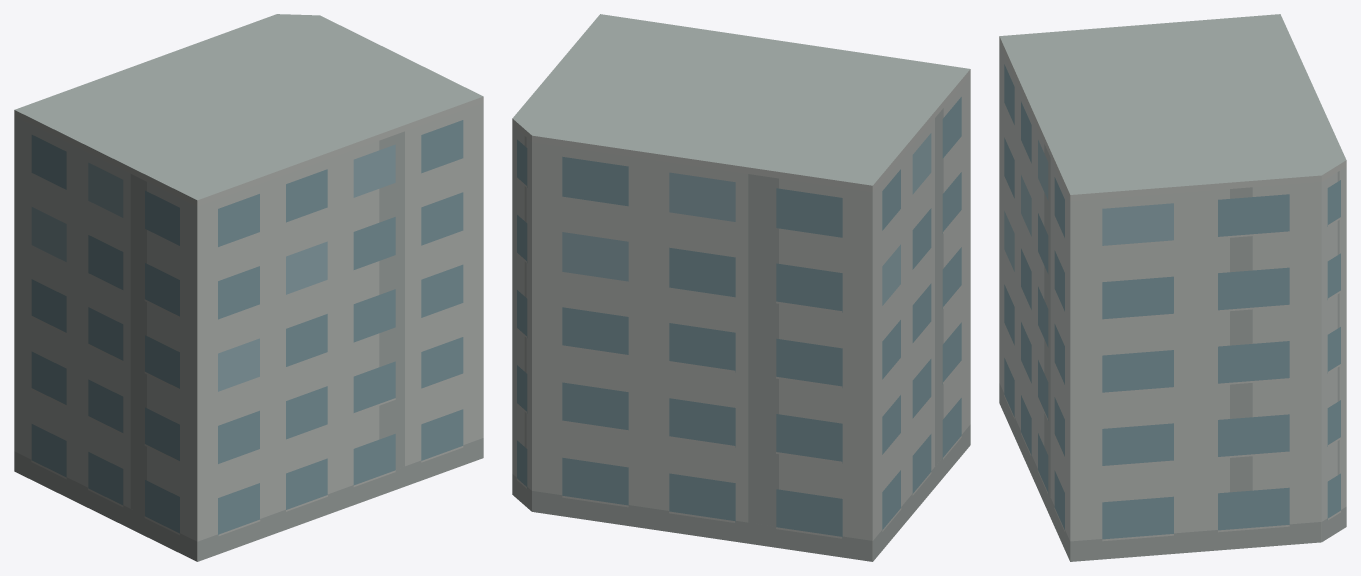
Rendered from survey-upis-32708447.glb.
3 renders of one model, left to right at view 1: azimuth 30°, elevation 25°; view 2: azimuth 150°, elevation 25°; view 3: azimuth 270°, elevation 25°, orthographic. The views are drawn at different scales.
Parts seen in each view (by area): view 1: survey-upis-32708447.tmp; view 2: survey-upis-32708447.tmp; view 3: survey-upis-32708447.tmp.
Boxes of the visible parts, left/top/right/bottom form: survey-upis-32708447.tmp: left=14, top=14, right=483, bottom=561; survey-upis-32708447.tmp: left=512, top=14, right=970, bottom=561; survey-upis-32708447.tmp: left=999, top=14, right=1346, bottom=561.
Size of the model in its own units: 14.72 by 13.9 by 11.93.
